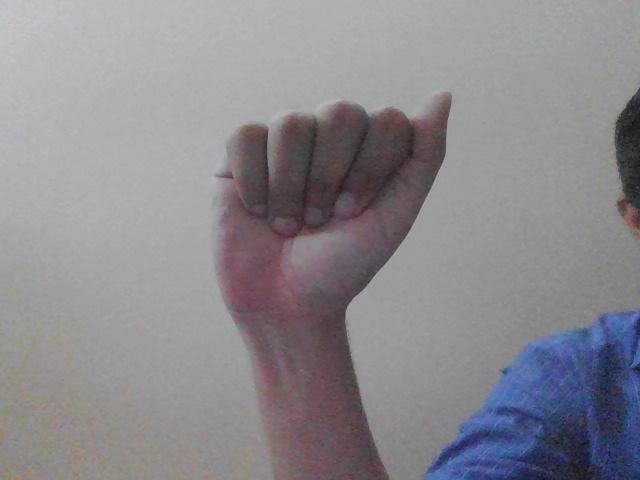A: (200, 81, 464, 327)
